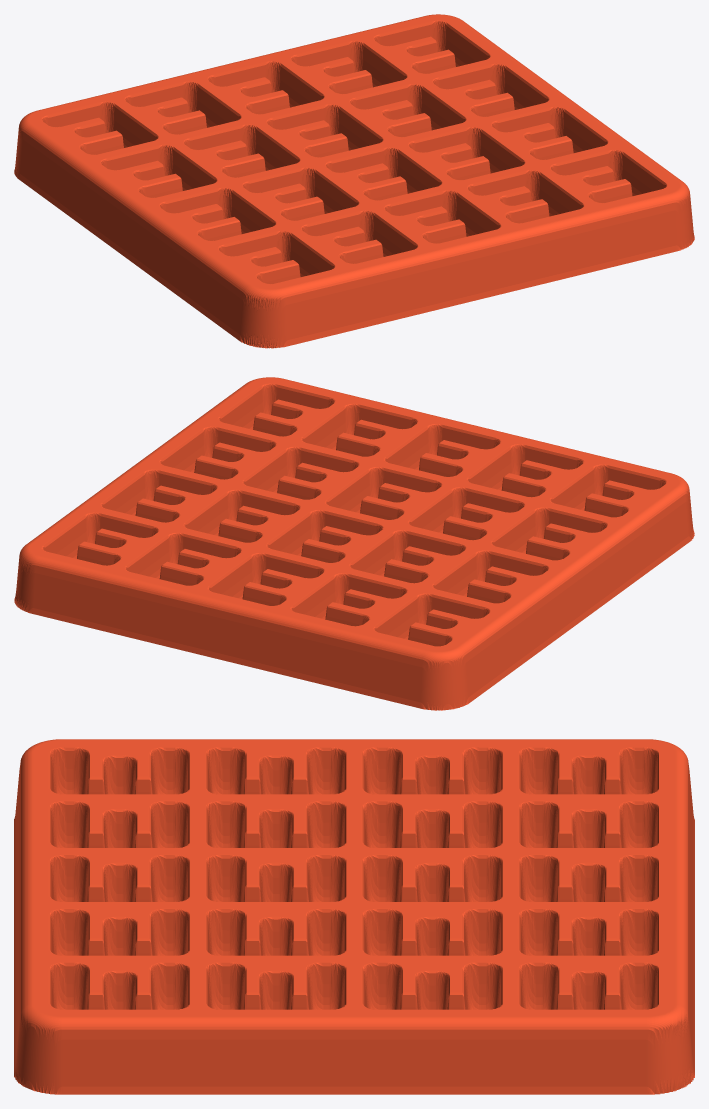
Rendered from mold.glb.
3 renders of one model, top to bottom at view 1: azimuth 30°, elevation 25°; view 2: azimuth 150°, elevation 25°; view 3: azimuth 270°, elevation 25°, orthographic. The views are drawn at different scales.
Visible parts, largest first — view 1: geometry_0; view 2: geometry_0; view 3: geometry_0.
Boxes of the visible parts, <box> form: geometry_0: <box>14,14,694,348</box>; geometry_0: <box>14,377,694,710</box>; geometry_0: <box>14,739,694,1094</box>.
Size of the model in its own units: 0.1298 by 0.0145 by 0.1278.
